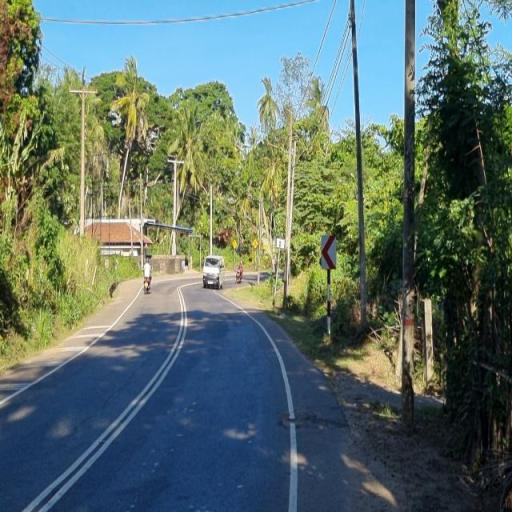double_white_line: (17, 284, 192, 510)
